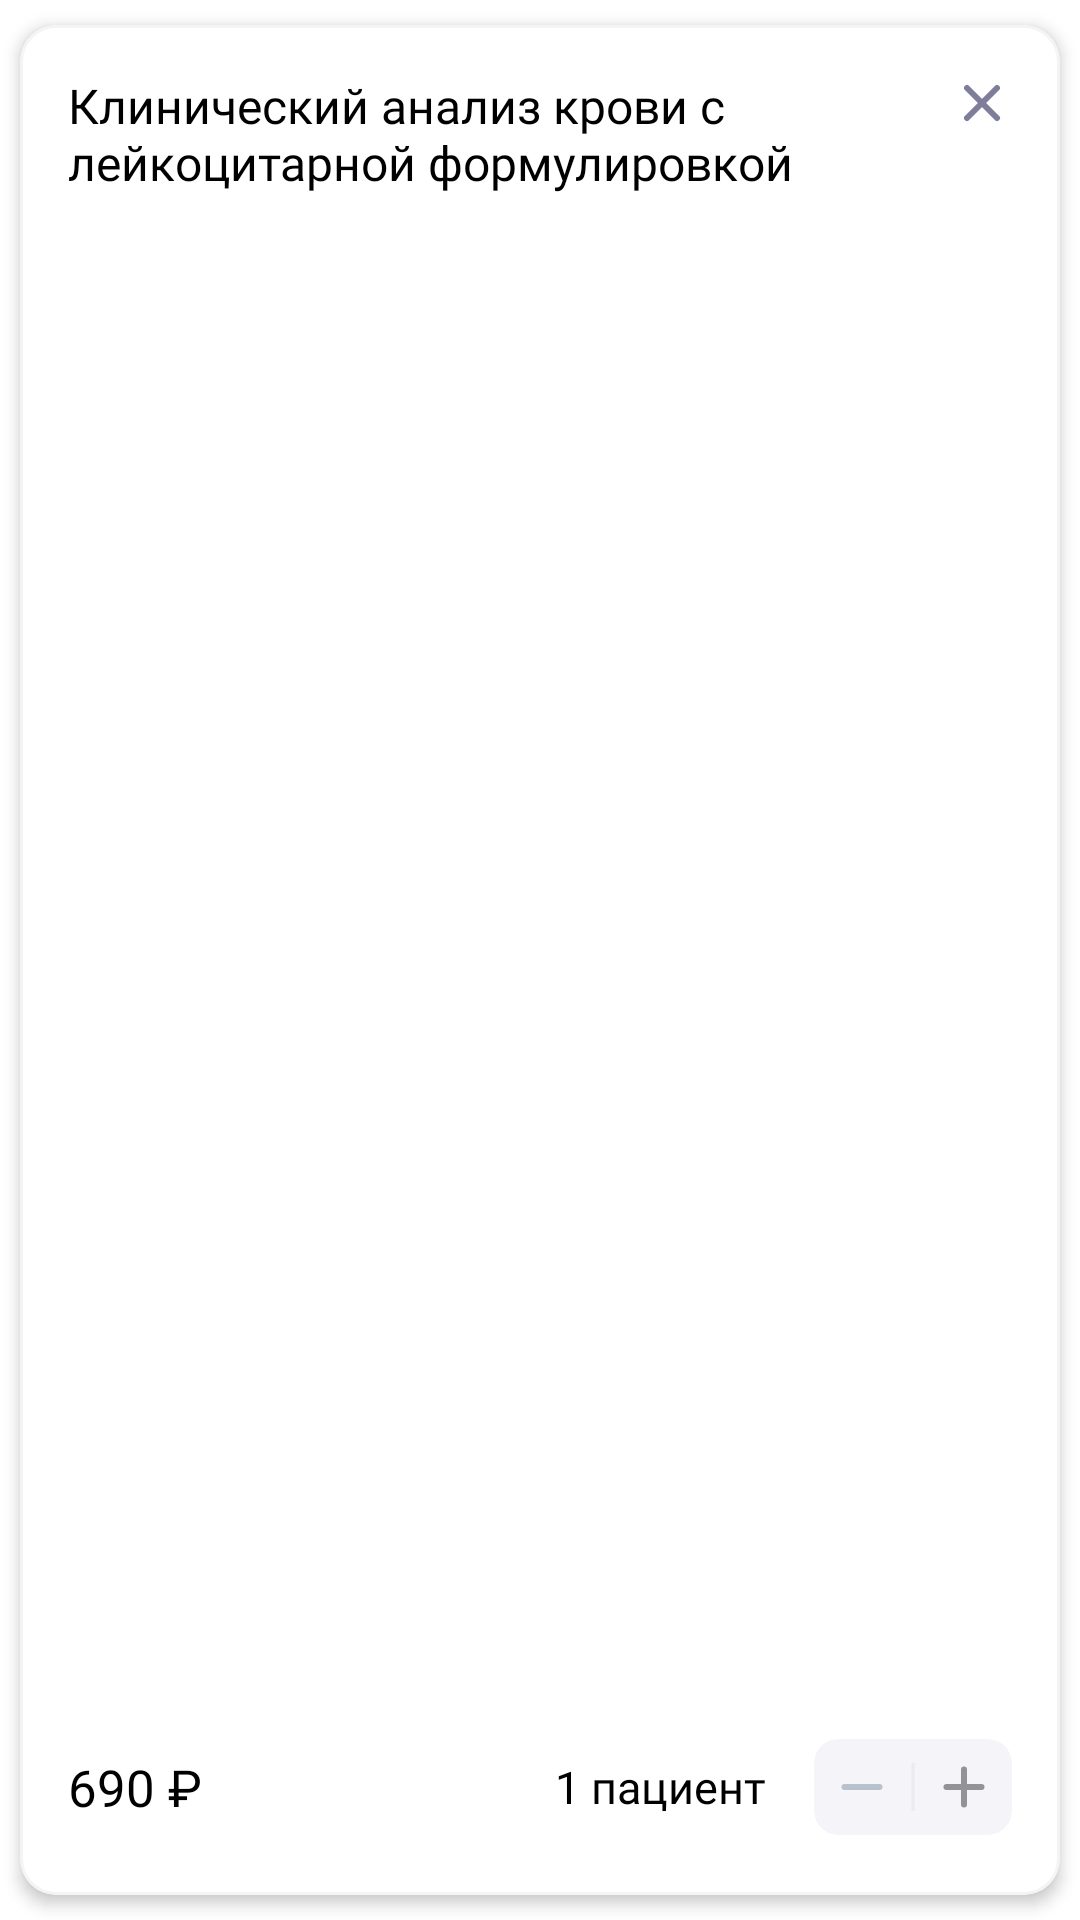

Icon bounding boxes for this 1080*1920 phone screenshot, format (x1, y1, x2, y2):
close: (964, 85, 1000, 121)
plus: (943, 1766, 985, 1808)
